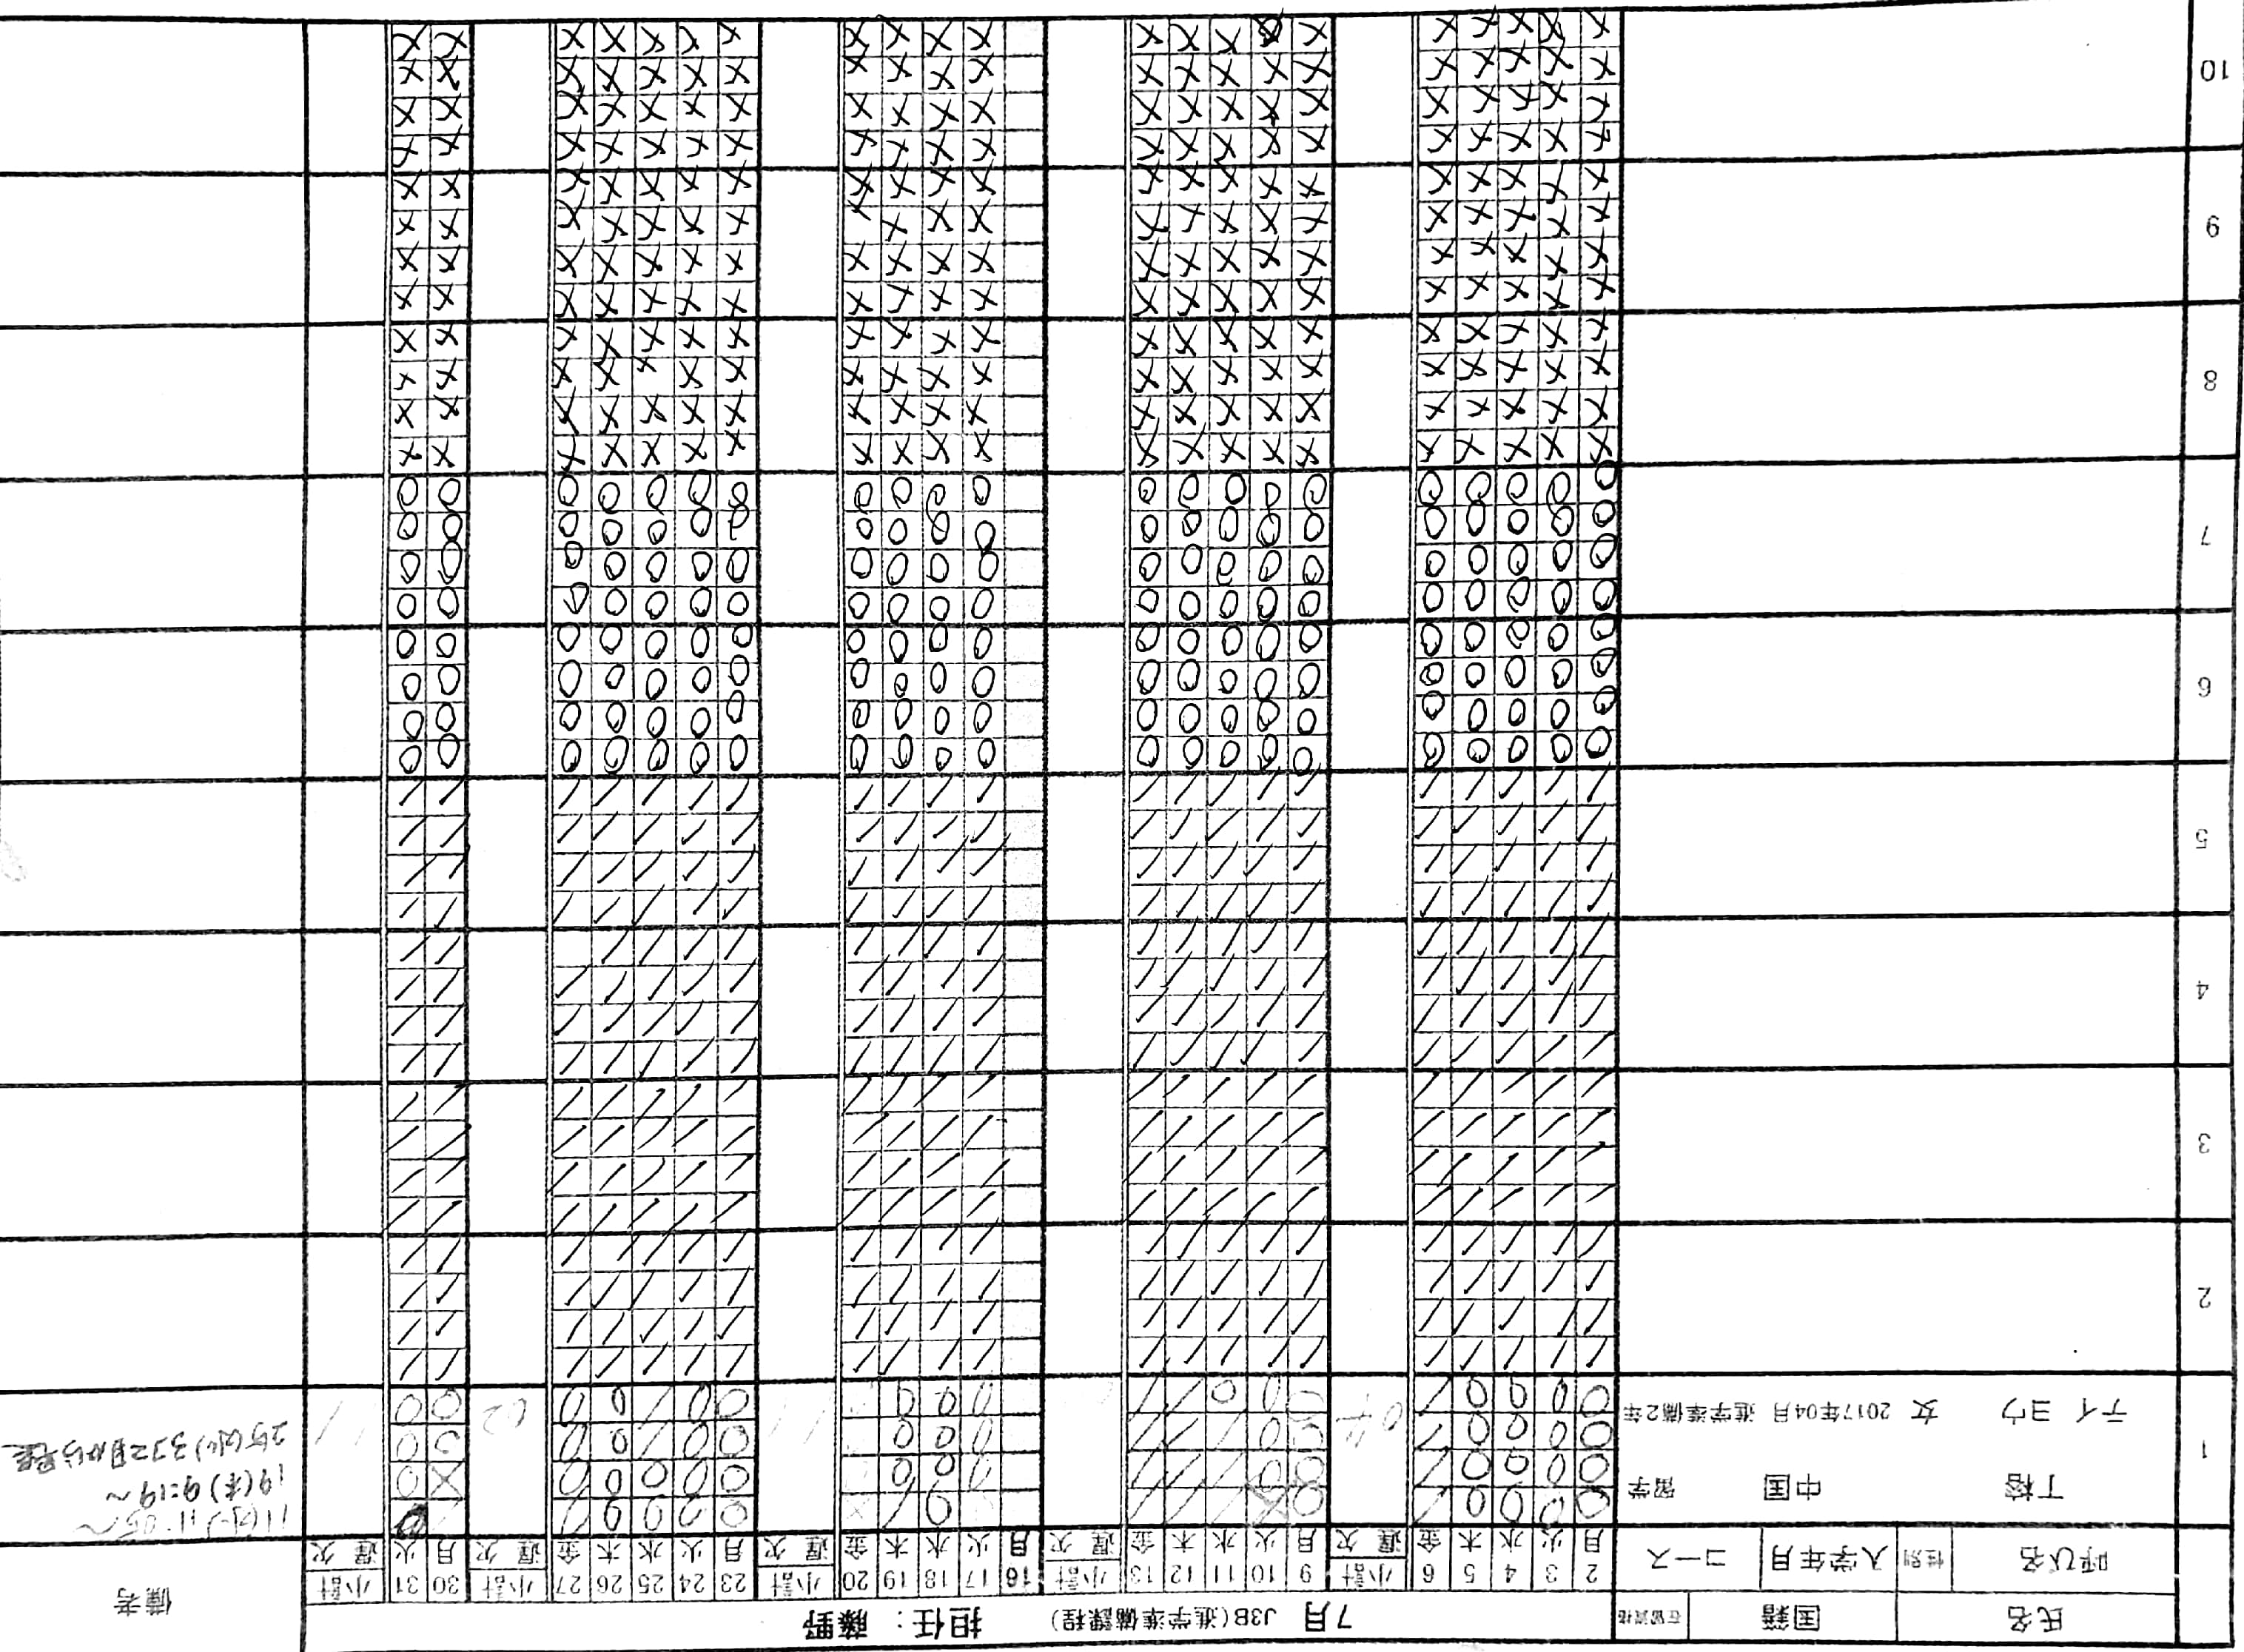/: (389, 1042, 423, 1079), (390, 1122, 425, 1159), (392, 1312, 427, 1349), (723, 774, 758, 810), (725, 812, 760, 849), (641, 929, 676, 965), (645, 962, 679, 999), (639, 999, 674, 1035), (723, 999, 758, 1035), (723, 1039, 758, 1075), (679, 1037, 714, 1073), (725, 1077, 760, 1114), (559, 1122, 594, 1159), (669, 1232, 704, 1269), (559, 1276, 594, 1312), (551, 1345, 585, 1382), (967, 812, 1002, 849), (885, 814, 920, 850), (840, 854, 875, 890), (880, 852, 915, 889), (969, 922, 1004, 958), (885, 960, 920, 997), (885, 1000, 920, 1037), (838, 1082, 873, 1119), (962, 1068, 997, 1105), (925, 1152, 960, 1188), (876, 1187, 911, 1223), (836, 1190, 871, 1227), (890, 1225, 925, 1262), (922, 1225, 956, 1262), (963, 1300, 998, 1337), (923, 1338, 958, 1375), (1127, 770, 1162, 807), (1173, 845, 1207, 882), (1301, 922, 1336, 958), (1300, 920, 1335, 957), (1171, 957, 1206, 993), (1173, 993, 1207, 1030), (1206, 1070, 1240, 1107), (1289, 1107, 1324, 1143), (1136, 1107, 1171, 1143), (1249, 1145, 1284, 1181), (1296, 1145, 1331, 1181), (1129, 1297, 1164, 1333), (1213, 1297, 1247, 1333), (1211, 1337, 1246, 1373), (1136, 1337, 1171, 1373), (1129, 1377, 1164, 1413), (1174, 1373, 1209, 1410), (1462, 884, 1497, 920), (1495, 953, 1530, 990), (1450, 962, 1484, 999), (1577, 993, 1612, 1030), (1535, 1145, 1570, 1181), (1490, 1147, 1524, 1183), (1448, 1147, 1483, 1183), (1416, 1148, 1451, 1185), (1491, 1187, 1526, 1223), (1575, 1335, 1610, 1371), (389, 781, 423, 816), (427, 777, 462, 812), (392, 934, 427, 969), (390, 967, 425, 1002), (385, 1004, 420, 1039), (390, 1082, 425, 1117), (423, 1197, 458, 1232), (392, 1239, 427, 1274), (390, 1277, 425, 1312), (591, 777, 625, 812), (634, 781, 669, 816), (556, 807, 591, 842), (556, 847, 591, 882), (723, 849, 758, 884), (679, 889, 714, 924), (556, 894, 591, 929), (725, 924, 760, 958), (723, 967, 758, 1002), (556, 967, 591, 1002), (679, 995, 714, 1030), (641, 1079, 676, 1114), (674, 1112, 709, 1147), (591, 1155, 625, 1190), (629, 1159, 664, 1194), (679, 1155, 714, 1190), (625, 1194, 660, 1229), (551, 1234, 585, 1269), (669, 1267, 704, 1302), (634, 1347, 669, 1382), (925, 782, 960, 817), (976, 772, 1010, 807), (847, 816, 882, 850), (923, 885, 958, 920), (880, 889, 915, 924), (892, 925, 927, 960), (962, 995, 997, 1030), (918, 1035, 953, 1070), (885, 1035, 920, 1070), (920, 1075, 955, 1110), (967, 1107, 1002, 1141), (922, 1110, 956, 1145), (840, 1152, 875, 1187), (880, 1152, 915, 1187), (967, 1181, 1002, 1216), (915, 1183, 950, 1218), (960, 1222, 995, 1256), (883, 1263, 918, 1298), (847, 1305, 882, 1340), (883, 1303, 918, 1338), (923, 1302, 958, 1337), (1171, 772, 1206, 807), (1211, 772, 1246, 807), (1249, 772, 1284, 807), (1289, 772, 1324, 807), (1200, 807, 1235, 842), (1129, 849, 1164, 884), (1206, 840, 1240, 875), (1289, 845, 1324, 880), (1249, 885, 1284, 920), (1131, 885, 1166, 920), (1171, 920, 1206, 955), (1218, 924, 1253, 958), (1247, 920, 1282, 955), (1132, 958, 1167, 993), (1131, 995, 1166, 1030), (1253, 995, 1288, 1030), (1289, 997, 1324, 1032), (1173, 1033, 1207, 1068), (1127, 1037, 1162, 1072), (1173, 1072, 1207, 1107), (1244, 1073, 1279, 1108), (1282, 1068, 1317, 1103), (1206, 1110, 1240, 1145), (1166, 1114, 1200, 1148), (1289, 1181, 1324, 1216), (1253, 1185, 1288, 1220), (1131, 1180, 1166, 1215), (1131, 1225, 1166, 1260), (1176, 1220, 1211, 1255), (1211, 1223, 1246, 1258), (1254, 1222, 1289, 1256), (1206, 1260, 1240, 1295), (1169, 1260, 1204, 1295), (1131, 1258, 1166, 1293), (1173, 1298, 1207, 1333), (1251, 1303, 1286, 1338), (1256, 1337, 1291, 1371), (1176, 1337, 1211, 1371), (1578, 802, 1613, 836), (1530, 805, 1565, 840), (1411, 843, 1446, 878), (1488, 840, 1523, 875), (1533, 842, 1568, 877), (1578, 835, 1613, 870), (1491, 918, 1526, 953), (1573, 918, 1608, 953), (1406, 958, 1441, 993), (1575, 993, 1610, 1028), (1486, 1033, 1521, 1068), (1575, 1032, 1610, 1066), (1577, 1066, 1612, 1101), (1502, 1068, 1537, 1103), (1451, 1075, 1486, 1110), (1411, 1107, 1446, 1141), (1540, 1107, 1575, 1141), (1457, 1185, 1491, 1220), (1540, 1225, 1575, 1260), (1491, 1258, 1526, 1293), (1533, 1263, 1568, 1298), (1575, 1262, 1610, 1297), (1578, 1298, 1613, 1333), (1577, 1337, 1612, 1371), (387, 857, 420, 894), (429, 852, 462, 889), (430, 1122, 463, 1159), (434, 1236, 467, 1272), (429, 1274, 462, 1310), (429, 1309, 462, 1345), (683, 814, 716, 850), (636, 850, 669, 887), (596, 890, 629, 927), (678, 960, 711, 997), (554, 1004, 587, 1040), (599, 1004, 632, 1040), (631, 1040, 664, 1077), (596, 1039, 629, 1075), (561, 1044, 594, 1080), (681, 1084, 714, 1121), (636, 1229, 669, 1265), (721, 1232, 754, 1269), (598, 1307, 631, 1344), (634, 1307, 667, 1344), (683, 1309, 716, 1345), (721, 1309, 754, 1345), (721, 1342, 754, 1378), (927, 812, 960, 849), (967, 847, 1000, 884), (847, 890, 880, 927), (972, 962, 1005, 999), (845, 1000, 878, 1037), (965, 1337, 998, 1373), (847, 1340, 880, 1377), (1293, 807, 1326, 843), (1291, 882, 1324, 918), (1209, 884, 1242, 920), (1291, 960, 1324, 997), (1246, 960, 1279, 997), (1209, 993, 1242, 1030), (1247, 1107, 1281, 1143), (1160, 1147, 1193, 1183), (1291, 1300, 1324, 1337), (1291, 1338, 1324, 1375), (1204, 1378, 1237, 1415), (1416, 772, 1450, 809), (1460, 768, 1493, 805), (1493, 770, 1526, 807), (1540, 767, 1573, 803), (1585, 767, 1619, 803), (1493, 800, 1526, 836), (1413, 807, 1446, 843), (1582, 877, 1615, 913), (1538, 884, 1571, 920), (1455, 922, 1488, 958), (1577, 957, 1610, 993), (1413, 993, 1446, 1030), (1538, 993, 1571, 1030), (1457, 1108, 1490, 1145), (1577, 1107, 1610, 1143), (1580, 1141, 1613, 1178), (1413, 1185, 1446, 1222), (1495, 1300, 1528, 1337), (1498, 1333, 1531, 1370), (1540, 1335, 1573, 1371), (432, 819, 465, 854), (394, 819, 427, 854), (430, 894, 463, 929), (394, 894, 427, 929), (429, 931, 462, 965), (430, 967, 463, 1002), (430, 1009, 463, 1044), (432, 1042, 465, 1077), (434, 1082, 467, 1117), (389, 1162, 422, 1197), (434, 1161, 467, 1195), (385, 1195, 418, 1230), (429, 1347, 462, 1382), (389, 1351, 422, 1385), (552, 777, 585, 812), (685, 779, 718, 814), (632, 816, 666, 850), (594, 812, 627, 847), (594, 850, 627, 885), (683, 850, 716, 885), (721, 889, 754, 924), (639, 890, 673, 925), (594, 929, 627, 964), (683, 927, 716, 962), (598, 965, 631, 1000), (561, 1077, 594, 1112), (598, 1077, 631, 1112), (721, 1115, 754, 1150), (645, 1114, 678, 1148), (599, 1119, 632, 1154), (549, 1161, 582, 1195), (720, 1155, 753, 1190), (721, 1185, 754, 1220), (679, 1190, 713, 1225), (587, 1197, 620, 1232), (552, 1199, 585, 1234), (598, 1236, 631, 1270), (720, 1265, 753, 1300), (632, 1272, 666, 1307), (594, 1274, 627, 1309), (556, 1305, 589, 1340), (679, 1347, 713, 1382), (587, 1347, 620, 1382), (552, 1347, 585, 1382), (848, 779, 882, 814), (883, 777, 916, 812), (930, 850, 963, 885), (972, 887, 1005, 922), (850, 927, 883, 962), (927, 927, 960, 962), (930, 958, 963, 993), (850, 964, 883, 999), (930, 999, 963, 1033), (972, 1032, 1005, 1066), (850, 1037, 883, 1072), (882, 1075, 915, 1110), (889, 1115, 922, 1150), (850, 1117, 883, 1152), (970, 1155, 1004, 1190), (836, 1188, 869, 1223), (843, 1234, 876, 1269), (965, 1267, 998, 1302), (930, 1265, 963, 1300), (848, 1269, 882, 1303), (883, 1337, 916, 1371), (1247, 803, 1281, 838), (1166, 807, 1199, 842), (1132, 810, 1166, 845), (1246, 849, 1279, 884), (1171, 884, 1204, 918), (1127, 920, 1160, 955), (1207, 958, 1240, 993), (1288, 1032, 1321, 1066), (1242, 1032, 1275, 1066), (1216, 1032, 1249, 1066), (1127, 1072, 1160, 1107), (1125, 1145, 1159, 1180), (1211, 1143, 1244, 1178), (1216, 1185, 1249, 1220), (1162, 1181, 1195, 1216), (1289, 1225, 1322, 1260), (1293, 1263, 1326, 1298), (1254, 1262, 1288, 1297), (1457, 810, 1490, 845), (1453, 843, 1486, 878), (1497, 885, 1530, 920), (1413, 882, 1446, 917), (1411, 927, 1444, 962), (1538, 918, 1571, 953), (1538, 950, 1571, 985), (1453, 993, 1486, 1028), (1495, 997, 1528, 1032), (1415, 1033, 1448, 1068), (1457, 1032, 1490, 1066), (1531, 1033, 1565, 1068), (1540, 1072, 1573, 1107), (1413, 1072, 1446, 1107), (1497, 1112, 1530, 1147), (1537, 1185, 1570, 1220), (1582, 1185, 1615, 1220), (1582, 1225, 1615, 1260), (1500, 1225, 1533, 1260), (1453, 1225, 1486, 1260), (1416, 1225, 1450, 1260), (1416, 1265, 1450, 1300), (1455, 1262, 1488, 1297), (1545, 1300, 1578, 1335), (1455, 1300, 1488, 1335), (1416, 1300, 1450, 1335), (1416, 1328, 1450, 1363), (1457, 1337, 1490, 1371)
o: (596, 544, 631, 587), (723, 545, 758, 589), (723, 584, 758, 627), (556, 575, 591, 619), (639, 622, 674, 666), (723, 735, 758, 779), (688, 742, 723, 786), (551, 702, 585, 746), (976, 551, 1010, 594), (925, 584, 960, 627), (920, 620, 955, 664), (923, 655, 958, 699), (1300, 474, 1335, 518), (1213, 504, 1247, 547), (1176, 507, 1211, 551), (1127, 547, 1162, 591), (1211, 540, 1246, 584), (1253, 582, 1288, 626), (1171, 620, 1206, 664), (1213, 624, 1247, 667), (1251, 624, 1286, 667), (1132, 659, 1167, 702), (1294, 694, 1329, 737), (1294, 728, 1329, 772), (1253, 728, 1288, 772), (1211, 732, 1246, 775), (1131, 728, 1166, 772), (551, 472, 585, 514), (725, 471, 760, 512), (639, 509, 674, 551), (923, 467, 958, 509), (883, 511, 918, 552), (883, 549, 918, 591), (920, 549, 955, 591), (967, 728, 1002, 770), (1169, 469, 1204, 511), (1220, 471, 1254, 512), (1263, 471, 1298, 512), (1253, 509, 1288, 551), (1131, 511, 1166, 552), (1173, 657, 1207, 699), (1171, 695, 1206, 737), (1176, 727, 1211, 768), (594, 472, 627, 516), (728, 504, 761, 547), (556, 507, 589, 551), (639, 544, 673, 587), (683, 540, 716, 584), (638, 584, 671, 627), (601, 582, 634, 626), (681, 620, 714, 664), (720, 659, 753, 702), (720, 688, 753, 732), (685, 690, 718, 734), (683, 652, 716, 695), (594, 735, 627, 779), (596, 659, 629, 702), (552, 659, 585, 702), (847, 472, 880, 516), (882, 462, 915, 505), (967, 467, 1000, 511), (930, 507, 963, 551), (848, 507, 882, 551), (882, 587, 915, 631), (845, 587, 878, 631), (883, 620, 916, 664), (967, 626, 1000, 669), (972, 664, 1005, 708), (848, 653, 882, 697), (848, 690, 882, 734), (890, 699, 923, 742), (927, 699, 960, 742), (927, 734, 960, 777), (850, 734, 883, 777), (1171, 544, 1204, 587), (1249, 544, 1282, 587), (1293, 584, 1326, 627), (1216, 586, 1249, 629), (1179, 584, 1213, 627), (1127, 624, 1160, 667), (1294, 620, 1328, 664), (1293, 660, 1326, 704), (1249, 659, 1282, 702), (1209, 659, 1242, 702), (1211, 690, 1244, 734), (1132, 728, 1166, 772), (639, 469, 673, 511), (678, 469, 711, 511), (685, 504, 718, 545), (592, 511, 625, 552), (556, 537, 589, 579), (685, 580, 718, 622), (554, 619, 587, 660), (592, 620, 625, 662), (727, 620, 760, 662), (639, 659, 673, 701), (638, 701, 671, 742), (639, 735, 673, 777), (598, 699, 631, 741), (594, 659, 627, 701), (551, 727, 584, 768), (970, 516, 1004, 558), (843, 551, 876, 592), (974, 580, 1007, 622), (845, 620, 878, 662), (889, 659, 922, 701), (960, 699, 993, 741), (890, 735, 923, 777), (1132, 471, 1166, 512), (1291, 549, 1324, 591), (1132, 584, 1166, 626), (1127, 695, 1160, 737), (1246, 697, 1279, 739), (1418, 542, 1453, 580), (1463, 728, 1498, 767), (1413, 469, 1448, 505), (1500, 472, 1535, 509), (1547, 465, 1582, 502), (1420, 505, 1455, 542), (1500, 544, 1535, 580), (1585, 537, 1620, 573), (1545, 579, 1580, 615), (1502, 580, 1537, 617), (1457, 697, 1491, 734), (1500, 695, 1535, 732), (1578, 727, 1613, 763), (1545, 730, 1580, 767), (1502, 728, 1537, 765), (1416, 730, 1451, 767), (1416, 575, 1450, 613), (1545, 620, 1578, 659), (1462, 471, 1495, 507), (1584, 465, 1617, 502), (1587, 504, 1620, 540), (1545, 500, 1578, 537), (1505, 504, 1538, 540), (1458, 504, 1491, 540), (1458, 545, 1491, 582), (1544, 540, 1577, 577), (1582, 579, 1615, 615), (1460, 580, 1493, 617), (1413, 622, 1446, 659), (1458, 619, 1491, 655), (1500, 615, 1533, 652), (1584, 615, 1617, 652), (1584, 645, 1617, 681), (1537, 650, 1570, 687), (1497, 653, 1530, 690), (1457, 659, 1490, 695), (1422, 657, 1455, 694), (1415, 687, 1448, 723), (1540, 699, 1573, 735), (1585, 687, 1619, 723), (1416, 730, 1450, 767), (395, 472, 420, 509), (394, 626, 418, 662), (399, 666, 423, 702), (437, 735, 462, 772), (441, 514, 465, 549), (397, 514, 422, 549), (397, 551, 422, 586), (439, 551, 463, 586), (437, 587, 462, 622), (394, 589, 418, 624), (439, 662, 463, 697), (434, 702, 458, 737), (434, 627, 456, 664), (402, 706, 425, 742), (437, 477, 460, 512), (401, 741, 423, 775)
x: (383, 357, 430, 397), (383, 396, 430, 436), (544, 355, 591, 396), (711, 54, 758, 94), (667, 51, 714, 91), (671, 166, 718, 206), (709, 242, 756, 282), (427, 58, 472, 98), (385, 59, 430, 99), (385, 94, 430, 134), (425, 96, 470, 136), (423, 206, 469, 246), (387, 242, 432, 282), (425, 244, 470, 284), (422, 281, 467, 321), (385, 281, 430, 321), (420, 357, 465, 397), (422, 432, 467, 472), (551, 436, 596, 476), (545, 392, 591, 432), (551, 240, 596, 281), (551, 162, 596, 202), (551, 132, 596, 173), (673, 19, 718, 59), (589, 58, 634, 98), (716, 125, 761, 166), (592, 127, 638, 167), (713, 162, 758, 202), (716, 202, 761, 242), (678, 204, 723, 244), (594, 207, 639, 247), (624, 242, 669, 282), (671, 240, 716, 281), (713, 281, 758, 321), (385, 23, 432, 61), (627, 54, 674, 92), (625, 91, 673, 129), (427, 23, 472, 61), (423, 129, 469, 167), (385, 134, 430, 173), (385, 173, 430, 211), (425, 169, 470, 207), (385, 207, 430, 246), (385, 324, 430, 362), (420, 322, 465, 361), (425, 399, 470, 437), (389, 432, 434, 471), (549, 319, 594, 357), (547, 277, 592, 315), (547, 202, 592, 240), (551, 89, 596, 127), (552, 54, 598, 92), (551, 23, 596, 61), (594, 21, 639, 59), (634, 21, 679, 59), (707, 21, 753, 59), (585, 89, 631, 127), (671, 92, 716, 131), (714, 94, 760, 132), (678, 124, 723, 162), (632, 129, 678, 167), (589, 167, 634, 206), (634, 167, 679, 206), (629, 202, 674, 240), (591, 240, 636, 279), (1171, 19, 1211, 58), (1171, 125, 1211, 164), (1254, 167, 1294, 206), (1171, 240, 1211, 279), (1249, 352, 1289, 390), (1416, 49, 1457, 87), (1457, 349, 1497, 387), (634, 281, 673, 319), (594, 281, 632, 319), (634, 321, 673, 359), (673, 319, 711, 357), (723, 355, 761, 394), (676, 355, 714, 394), (634, 355, 673, 394), (589, 357, 627, 396), (589, 397, 627, 436), (634, 396, 673, 434), (671, 390, 709, 429), (716, 392, 754, 430), (713, 429, 751, 467), (605, 436, 643, 474), (840, 436, 878, 474), (842, 390, 880, 429), (836, 355, 875, 394), (842, 281, 880, 319), (848, 167, 887, 206), (845, 127, 883, 166), (847, 49, 885, 87), (847, 17, 885, 56), (883, 10, 922, 49), (887, 49, 925, 87), (885, 85, 923, 124), (885, 134, 923, 173), (880, 166, 918, 204), (880, 242, 918, 281), (878, 275, 916, 314), (920, 159, 958, 197), (922, 89, 960, 127), (923, 17, 962, 56), (967, 21, 1005, 59), (963, 58, 1002, 96), (960, 85, 998, 124), (965, 129, 1004, 167), (960, 235, 998, 274), (967, 274, 1005, 312), (962, 355, 1000, 394), (958, 392, 997, 430), (960, 432, 998, 471), (911, 352, 950, 390), (878, 432, 916, 471), (1136, 17, 1174, 56), (1209, 14, 1247, 52), (1294, 14, 1333, 52), (1253, 44, 1291, 82), (1132, 89, 1171, 127), (1216, 89, 1254, 127), (1251, 89, 1289, 127), (1294, 89, 1333, 127), (1294, 129, 1333, 167), (1263, 124, 1301, 162), (1204, 127, 1242, 166), (1132, 125, 1171, 164), (1134, 166, 1173, 204), (1173, 167, 1211, 206), (1294, 166, 1333, 204), (1291, 202, 1329, 240), (1254, 206, 1293, 244), (1209, 207, 1247, 246), (1178, 207, 1216, 246), (1129, 202, 1167, 240), (1256, 277, 1294, 315), (1209, 277, 1247, 315), (1127, 281, 1166, 319), (1129, 321, 1167, 359), (1200, 321, 1239, 359), (1291, 314, 1329, 352), (1200, 352, 1239, 390), (1162, 354, 1200, 392), (1134, 357, 1173, 396), (1127, 399, 1166, 437), (1164, 396, 1202, 434), (1213, 392, 1251, 430), (1293, 432, 1331, 471), (1167, 427, 1206, 465), (1416, 14, 1455, 52), (1462, 12, 1500, 51), (1540, 44, 1578, 82), (1458, 47, 1497, 85), (1415, 85, 1453, 124), (1467, 85, 1505, 124), (1504, 77, 1542, 115), (1537, 78, 1575, 117), (1580, 84, 1619, 122), (1577, 120, 1615, 159), (1537, 118, 1575, 157), (1504, 118, 1542, 157), (1457, 118, 1495, 157), (1423, 124, 1462, 162), (1418, 159, 1457, 197), (1462, 162, 1500, 200), (1491, 159, 1530, 197), (1537, 162, 1575, 200), (1578, 157, 1617, 195), (1504, 197, 1542, 235), (1422, 199, 1460, 237), (1462, 235, 1500, 274), (1497, 235, 1535, 274), (1542, 235, 1580, 274), (1577, 268, 1615, 307), (1537, 272, 1575, 310), (1420, 274, 1458, 312), (1455, 310, 1493, 349), (1495, 308, 1533, 347), (1535, 310, 1573, 349), (1585, 312, 1624, 350), (1537, 345, 1575, 383), (1418, 350, 1457, 389), (1416, 389, 1455, 427), (1544, 390, 1582, 429), (1577, 389, 1615, 427), (1582, 427, 1620, 465), (1416, 429, 1455, 467), (1415, 427, 1453, 465), (915, 394, 955, 430), (1206, 54, 1246, 91), (1171, 54, 1211, 91), (1206, 240, 1246, 277), (1289, 240, 1329, 277), (1166, 322, 1206, 359), (1249, 322, 1289, 359), (1206, 430, 1246, 467), (1500, 47, 1540, 84), (673, 281, 711, 317), (587, 324, 625, 361), (718, 322, 756, 359), (671, 432, 709, 469), (639, 432, 678, 469), (843, 319, 882, 355), (843, 239, 882, 275), (845, 197, 883, 234), (847, 87, 885, 124), (876, 202, 915, 239), (920, 281, 958, 317), (920, 239, 958, 275), (918, 195, 956, 232), (922, 125, 960, 162), (927, 54, 965, 91), (960, 171, 998, 207), (962, 202, 1000, 239), (969, 317, 1007, 354), (922, 432, 960, 469), (880, 389, 918, 425), (1298, 47, 1336, 84), (1139, 54, 1178, 91), (1169, 87, 1207, 124), (1214, 169, 1253, 206), (1127, 239, 1166, 275), (1247, 240, 1286, 277), (1288, 274, 1326, 310), (1176, 279, 1214, 315), (1291, 349, 1329, 385), (1256, 394, 1294, 430), (1293, 394, 1331, 430), (1249, 432, 1288, 469), (1125, 432, 1164, 469), (1502, 9, 1540, 45), (1533, 7, 1571, 44), (1585, 7, 1624, 44), (1582, 47, 1620, 84), (1584, 197, 1622, 234), (1544, 200, 1582, 237), (1462, 200, 1500, 237), (1420, 239, 1458, 275), (1573, 235, 1612, 272), (1502, 274, 1540, 310), (1457, 274, 1495, 310), (1420, 317, 1458, 354), (1582, 349, 1620, 385), (1495, 349, 1533, 385), (1453, 389, 1491, 425), (1498, 387, 1537, 423), (1538, 427, 1577, 464), (1500, 427, 1538, 464), (1448, 427, 1486, 464)
